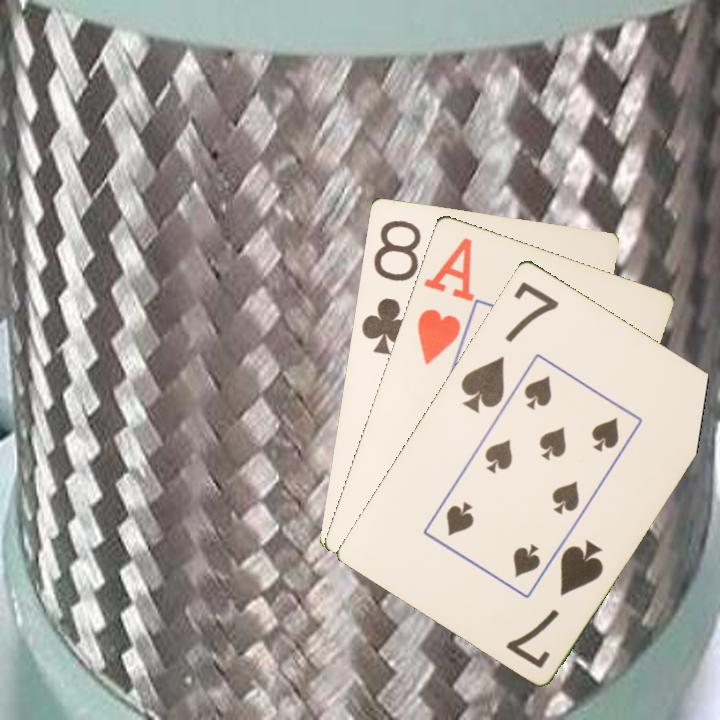7s: (457, 277, 562, 415), (502, 535, 607, 671)
8c: (357, 216, 424, 357)
Ah: (413, 233, 476, 368)
